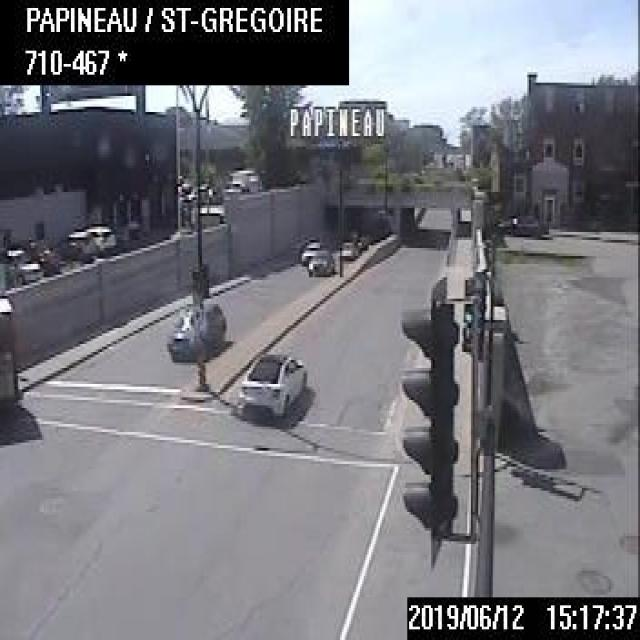vehicle: (233, 344, 305, 419), (166, 298, 223, 362), (1, 244, 46, 284), (0, 288, 15, 400), (494, 210, 552, 238), (60, 228, 95, 262), (80, 223, 116, 253), (333, 229, 364, 256), (297, 238, 327, 264), (306, 252, 334, 275)
